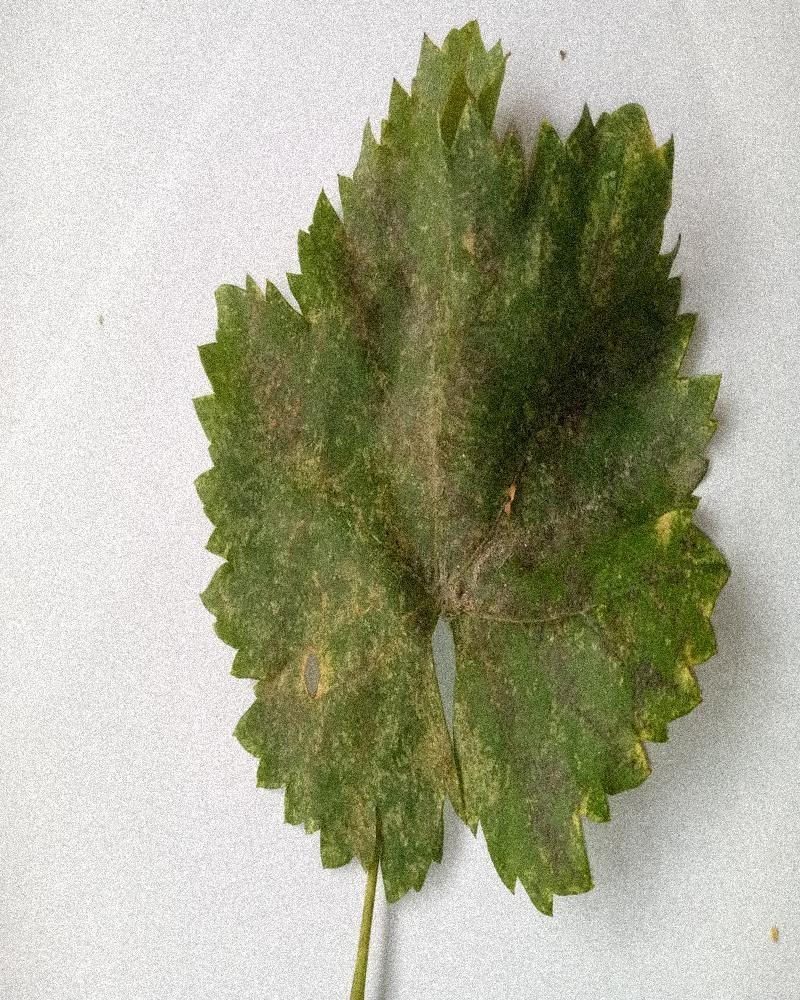Powdery-Mildew: (373, 280, 478, 503), (275, 587, 409, 721), (245, 335, 338, 484), (484, 485, 547, 548), (628, 495, 691, 558)
